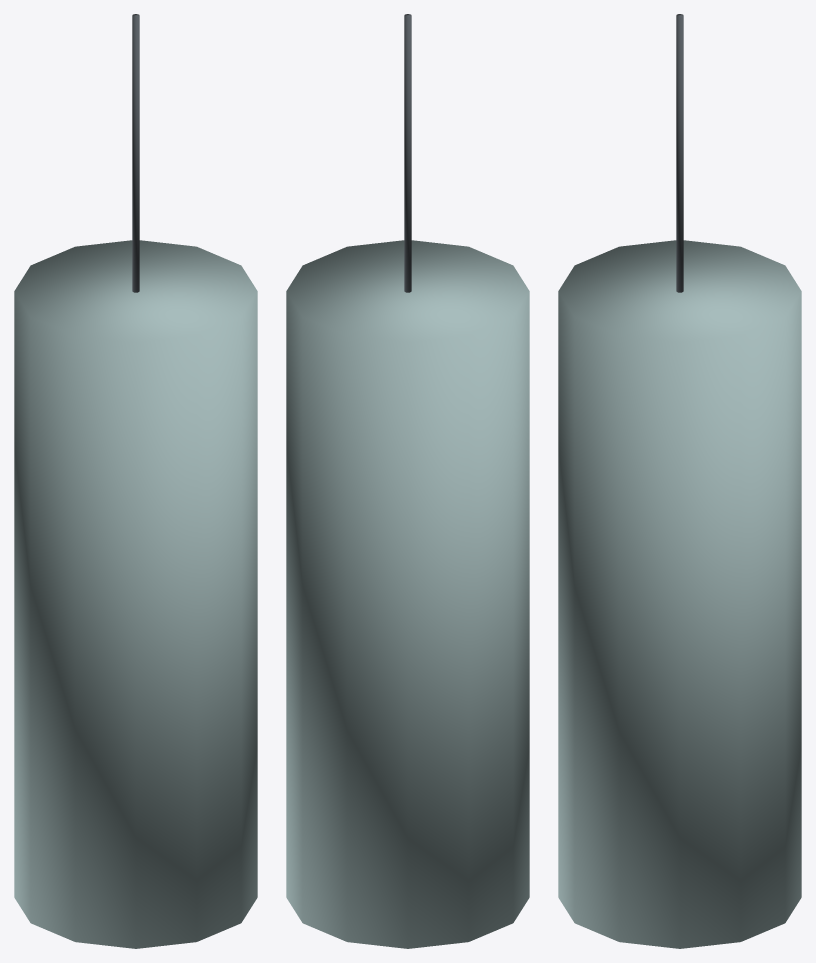
The model's file is atelier-punching-bag.glb.
3 renders of one model, left to right at view 1: azimuth 30°, elevation 25°; view 2: azimuth 150°, elevation 25°; view 3: azimuth 270°, elevation 25°, orthographic.
Parts seen in each view (by area): view 1: fabric.107, metal.204; view 2: fabric.107, metal.204; view 3: fabric.107, metal.204.
Boxes of the visible parts, box(x1,y1,x2,y2) form: fabric.107: box(14, 240, 257, 948); metal.204: box(132, 14, 139, 292); fabric.107: box(286, 240, 529, 948); metal.204: box(404, 14, 411, 292); fabric.107: box(558, 240, 801, 948); metal.204: box(676, 14, 683, 292).
Bounding box in the file's own units: 0.4 × 1.6 × 0.4.
